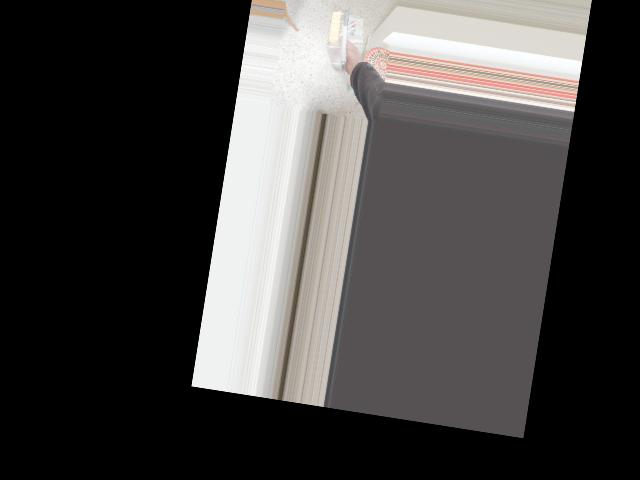cheese: (316, 5, 366, 71)
